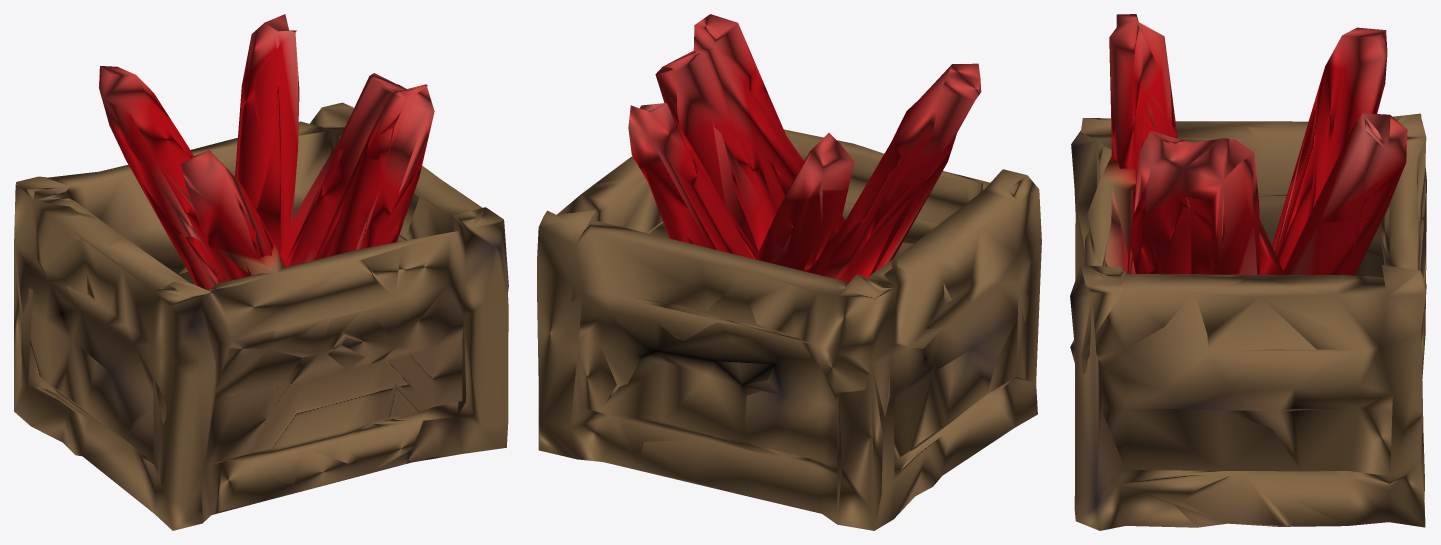
Rendered from gen3d-tnt-crate-lod0.glb.
3 renders of one model, left to right at view 1: azimuth 30°, elevation 25°; view 2: azimuth 150°, elevation 25°; view 3: azimuth 270°, elevation 25°, orthographic. The views are drawn at different scales.
Visible parts, largest first — view 1: part_0; view 2: part_0; view 3: part_0.
Part boxes in pixels (box(x1,y1,x2,y2)): part_0: box(14, 14, 508, 530); part_0: box(537, 14, 1041, 530); part_0: box(1070, 14, 1426, 530).
Bounding box in the file's own units: 0.9846 × 0.9777 × 0.8509.
